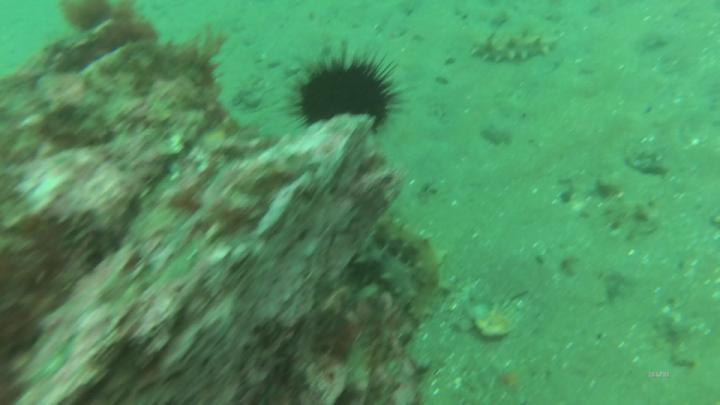echinus: (287, 36, 411, 136)
holothurian: (374, 214, 452, 326), (468, 25, 568, 73)
